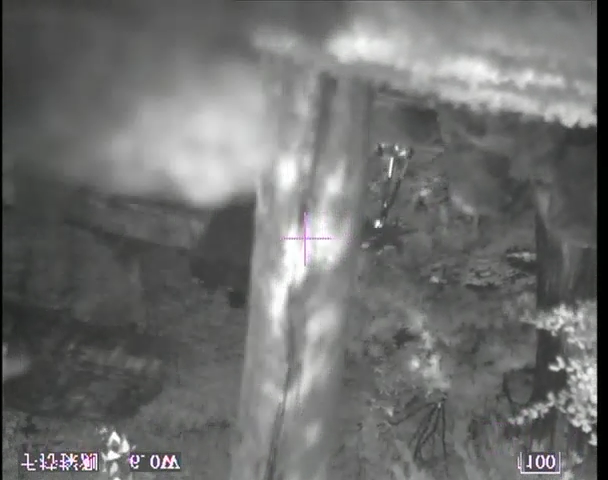my: (372, 219, 382, 230)
